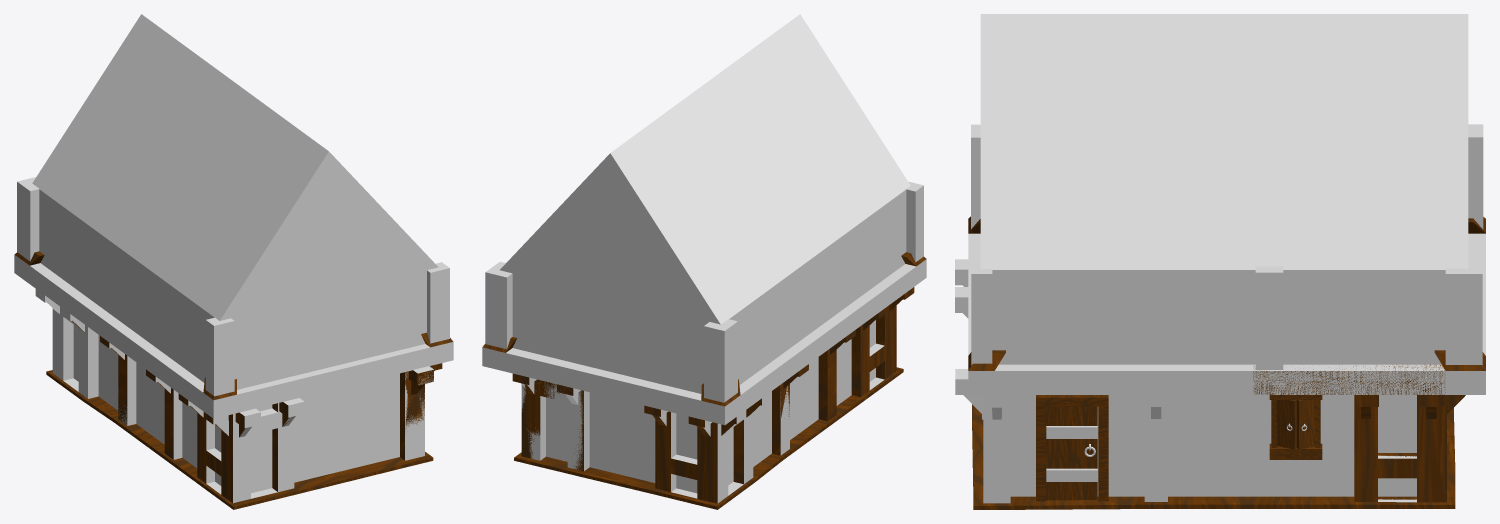
Rendered from HouseMideavel.fbx.
The picture shows the model from 3 angles, left to right: view 1: azimuth 30°, elevation 25°; view 2: azimuth 150°, elevation 25°; view 3: azimuth 270°, elevation 25°; orthographic projection. The views are drawn at different scales.
Parts seen in each view (by area): view 1: Cube, Cube.008, Cube.014, Cube.004, Cube.005, Cube.003, Cube.006, Cube.007, Cube.010; view 2: Cube, Cube.008, Cube.014, Cube.002, Cube.005, Cube.010, Cube.006; view 3: Cube, Cube.008, Cube.014, Cube.010, Cube.003, Cube.015, Cube.013, Cube.001, Cube.012, Cube.018, Cube.019, Cube.004 (+2 smaller).
Part boxes in pixels (left/top/right/bottom): Cube: left=32, top=14, right=438, bottom=493; Cube.008: left=14, top=177, right=453, bottom=418; Cube.014: left=46, top=320, right=442, bottom=509; Cube.004: left=188, top=398, right=304, bottom=503; Cube.005: left=35, top=289, right=98, bottom=398; Cube.003: left=405, top=366, right=433, bottom=460; Cube.006: left=109, top=343, right=136, bottom=425; Cube.007: left=155, top=377, right=182, bottom=459; Cube.010: left=14, top=251, right=453, bottom=400; Cube: left=500, top=14, right=910, bottom=493; Cube.008: left=482, top=181, right=926, bottom=425; Cube.014: left=512, top=287, right=914, bottom=509; Cube.002: left=521, top=377, right=589, bottom=470; Cube.005: left=659, top=391, right=771, bottom=503; Cube.010: left=482, top=252, right=926, bottom=406; Cube.006: left=780, top=386, right=789, bottom=455; Cube: left=980, top=14, right=1468, bottom=496; Cube.008: left=968, top=124, right=1485, bottom=394; Cube.014: left=972, top=395, right=1465, bottom=509; Cube.010: left=968, top=216, right=1485, bottom=394; Cube.003: left=955, top=369, right=1010, bottom=503; Cube.015: left=1046, top=406, right=1097, bottom=500; Cube.013: left=1036, top=395, right=1108, bottom=501; Cube.001: left=1144, top=395, right=1168, bottom=501; Cube.012: left=1269, top=395, right=1322, bottom=459; Cube.018: left=1276, top=400, right=1296, bottom=449; Cube.019: left=1297, top=400, right=1315, bottom=449; Cube.004: left=955, top=259, right=983, bottom=419.
Bounding box in the file's own units: 506 × 669 × 746.
